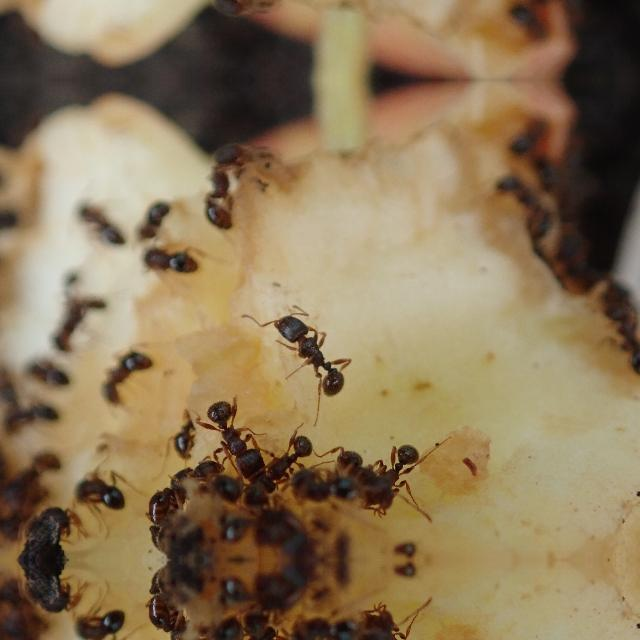Tetramorium: (256, 308, 378, 408), (192, 132, 258, 242), (146, 451, 218, 525), (226, 501, 314, 559), (226, 561, 314, 619), (492, 153, 554, 235), (213, 392, 264, 474), (96, 349, 154, 418), (377, 435, 429, 509), (144, 594, 218, 640), (262, 428, 316, 488), (80, 202, 136, 256), (70, 468, 124, 524), (0, 396, 68, 436), (136, 242, 202, 280), (22, 350, 76, 396), (70, 596, 124, 640), (167, 400, 199, 460), (131, 192, 167, 245), (192, 0, 258, 28), (377, 610, 429, 640)
